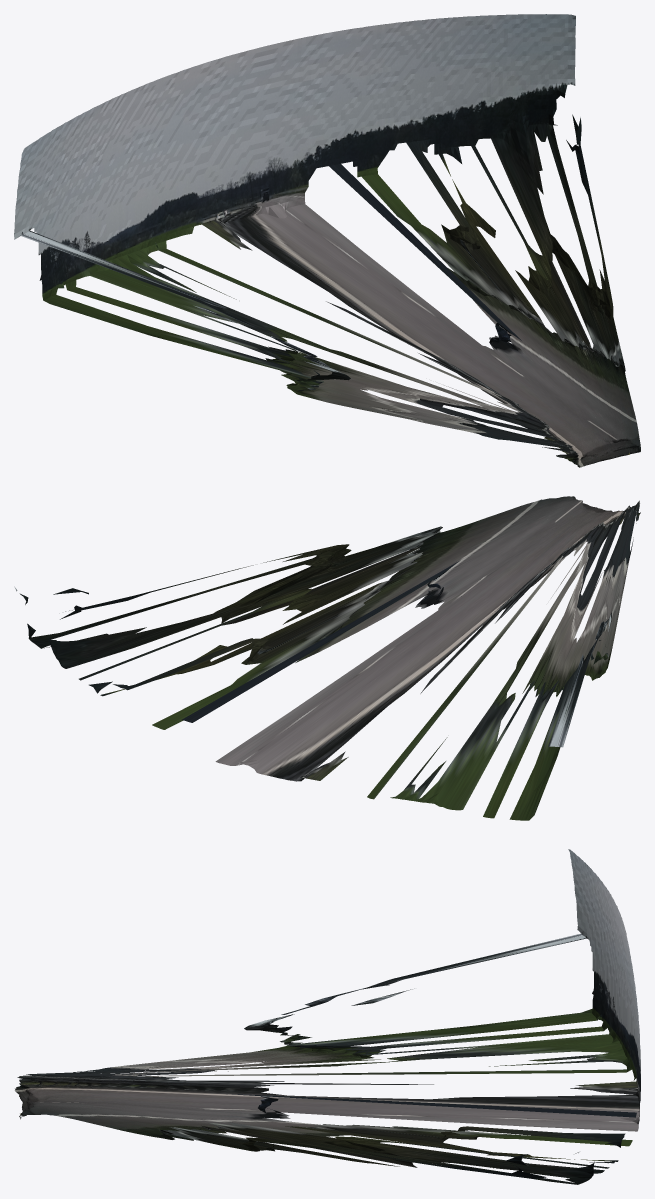
The picture shows the model from 3 angles, top to bottom: view 1: azimuth 30°, elevation 25°; view 2: azimuth 150°, elevation 25°; view 3: azimuth 270°, elevation 25°; orthographic projection. The views are drawn at different scales.
Parts seen in each view (by area): view 1: defaultobject; view 2: defaultobject; view 3: defaultobject.
Part boxes in pixels (bbox=[...]): defaultobject: bbox=[14, 14, 640, 467]; defaultobject: bbox=[14, 496, 640, 820]; defaultobject: bbox=[14, 849, 640, 1184].
Bounding box in the file's own units: 41.08 × 12.67 × 44.7.
Materials: 1 (1 with a texture image).
